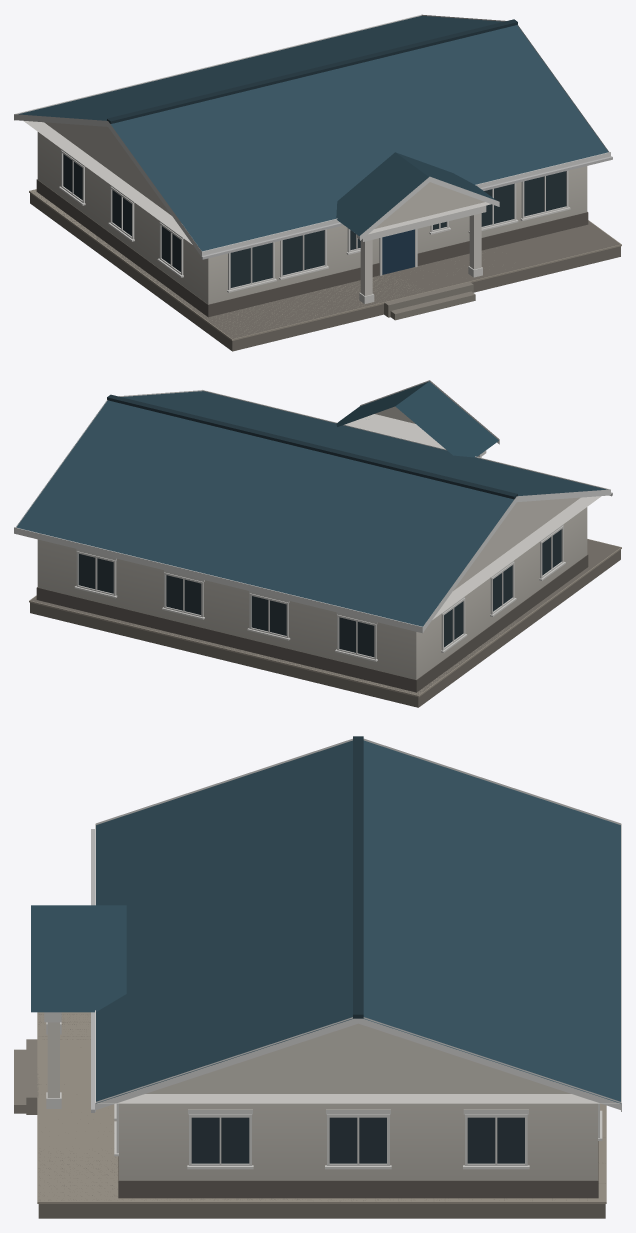
Rendered from ns_house_lod1.glb.
3 renders of one model, top to bottom at view 1: azimuth 30°, elevation 25°; view 2: azimuth 150°, elevation 25°; view 3: azimuth 270°, elevation 25°, orthographic. The views are drawn at different scales.
Parts seen in each view (by area): view 1: ns_house_lod1; view 2: ns_house_lod1; view 3: ns_house_lod1.
Part boxes in pixels (<box>): ns_house_lod1: <box>14,14,621,351</box>; ns_house_lod1: <box>14,380,621,707</box>; ns_house_lod1: <box>14,736,621,1218</box>.
Size of the model in its own units: 17.32 by 6.06 by 15.87.
